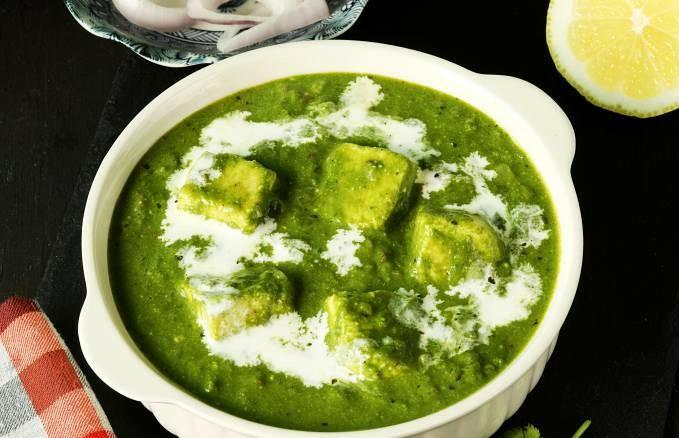PalakPaneer: (106, 70, 558, 427)
